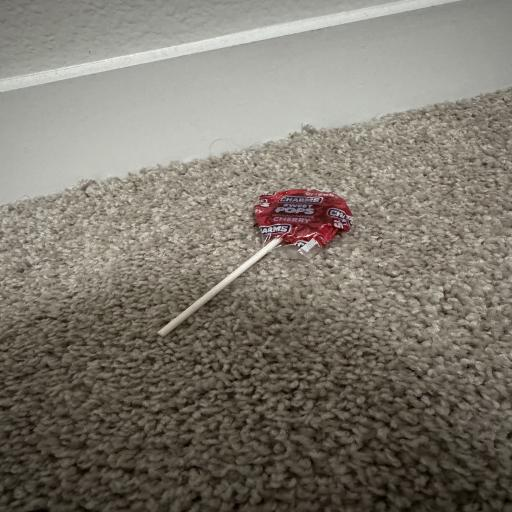chocolate: (254, 189, 354, 250)
